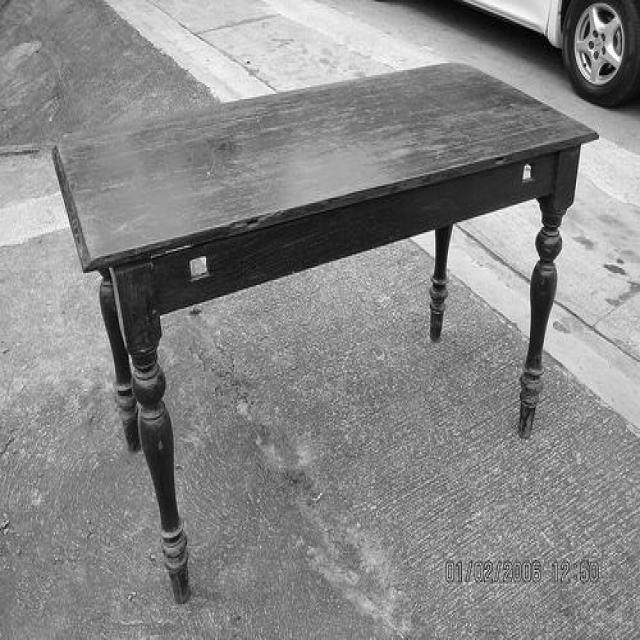table: (53, 59, 600, 604)
